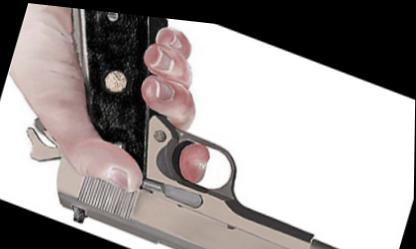pistol: (5, 0, 415, 248)
